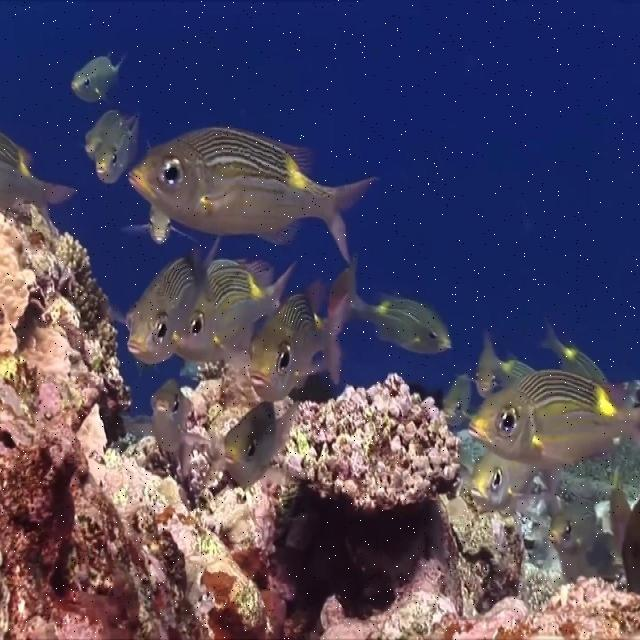fish: (129, 127, 382, 270), (127, 236, 273, 364), (469, 371, 639, 465), (171, 257, 298, 361), (249, 292, 348, 401), (119, 379, 208, 452), (224, 401, 299, 485), (353, 292, 452, 355), (1, 133, 78, 210), (471, 454, 554, 511), (543, 322, 609, 384), (477, 331, 535, 384), (96, 114, 140, 183), (71, 54, 128, 104), (122, 206, 194, 245), (84, 111, 138, 160), (548, 501, 597, 552), (329, 253, 357, 323), (445, 372, 473, 430), (455, 371, 505, 394)
reefs: (269, 376, 462, 508)
